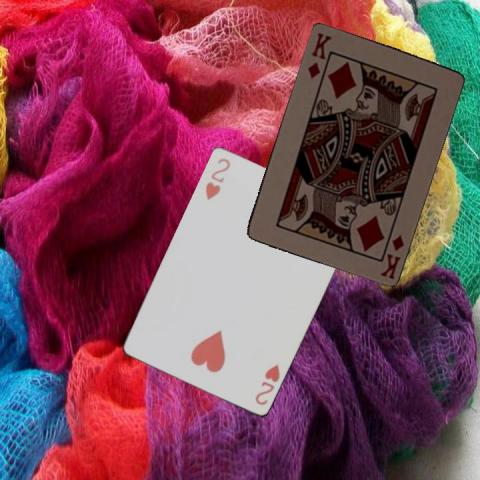2h: (202, 155, 232, 203), (252, 361, 282, 408)
Kd: (304, 29, 333, 81), (377, 231, 405, 281)
